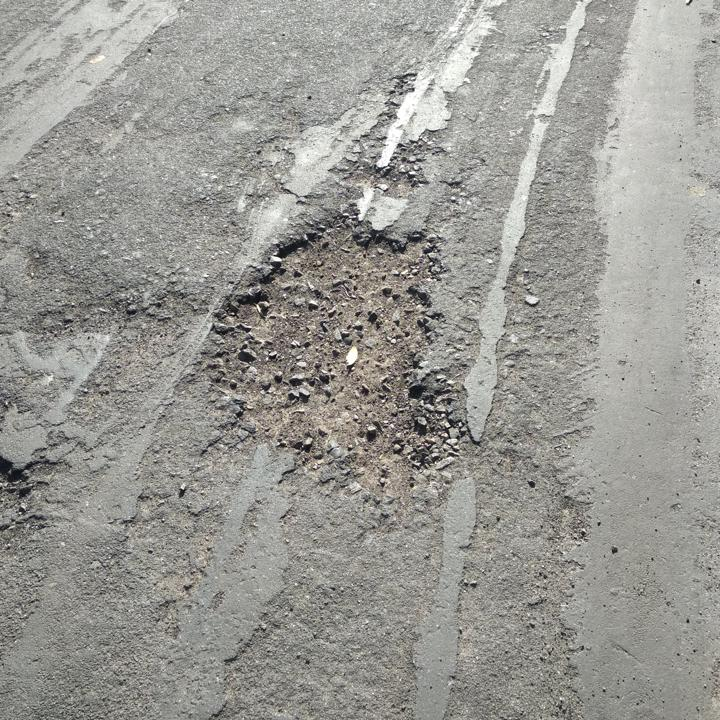pothole: (204, 211, 470, 503)
